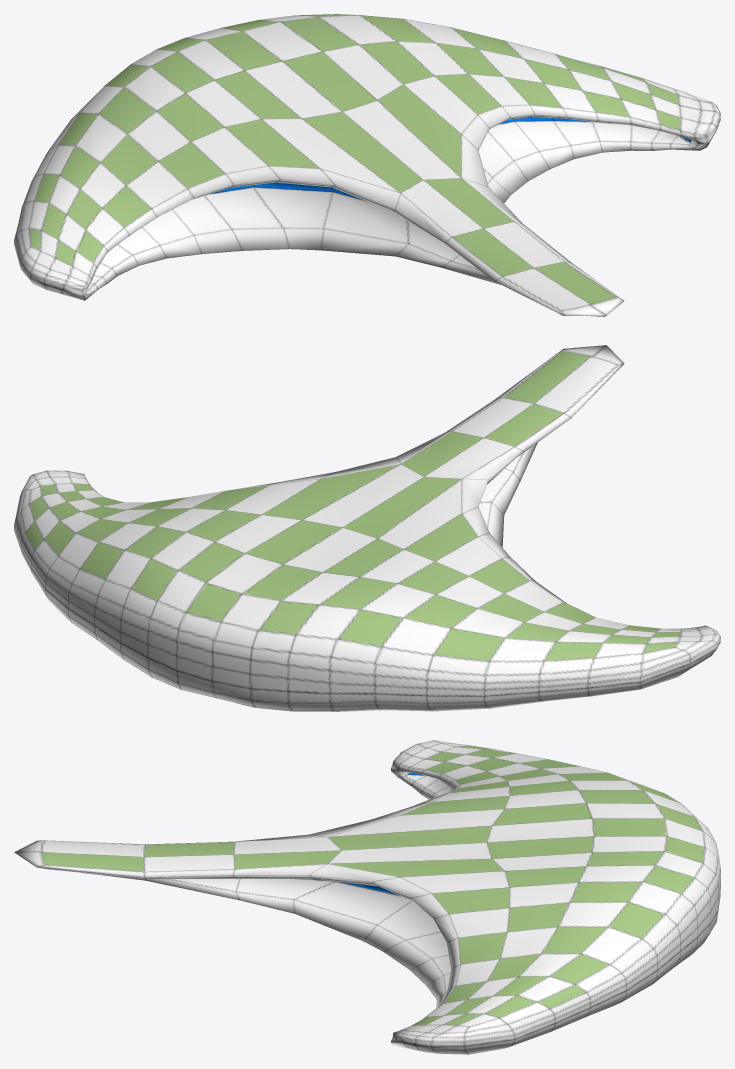
The model's file is ship.obj.
3 views of the same model, one above another, from view 1: azimuth 30°, elevation 25°; view 2: azimuth 150°, elevation 25°; view 3: azimuth 270°, elevation 25° (orthographic). The views are drawn at different scales.
Bounding box in the file's own units: 7.84 × 1.02 × 7.8.
2 materials, 2 textured.
